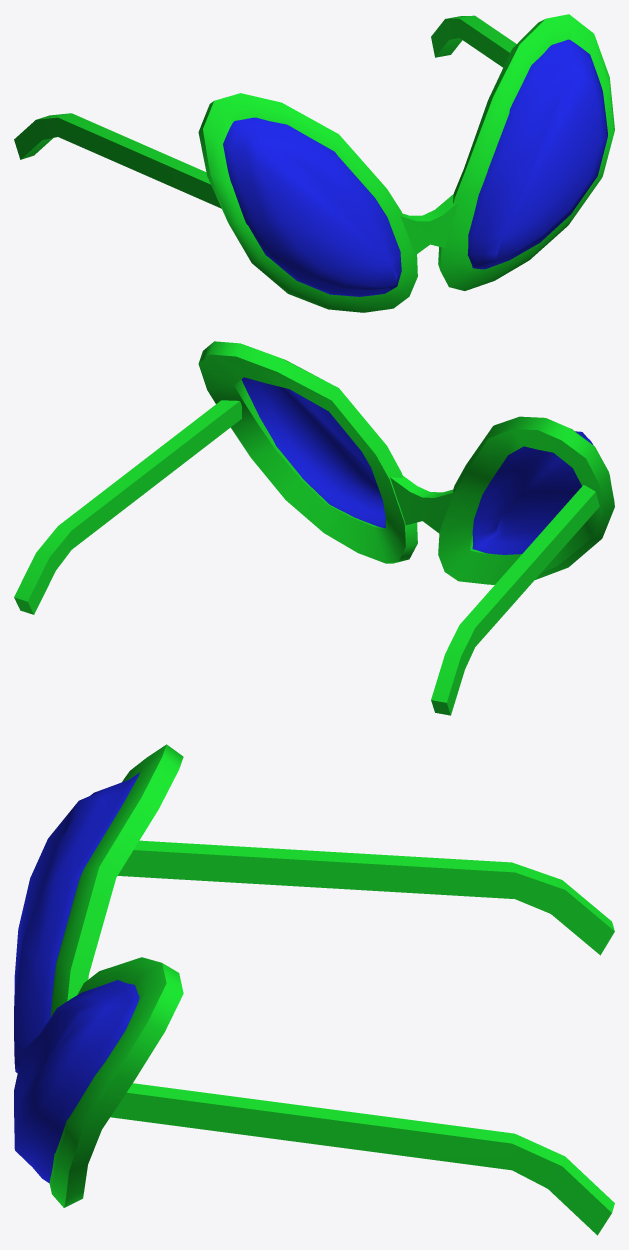
File: Alien_goggles.fbx
The picture shows the model from 3 angles, top to bottom: view 1: azimuth 30°, elevation 25°; view 2: azimuth 150°, elevation 25°; view 3: azimuth 270°, elevation 25°; orthographic projection. The views are drawn at different scales.
Parts seen in each view (by area): view 1: Alien_goggles.c, Glasses_stick_09.001, Glasses_stick_10; view 2: Alien_goggles.c, Glasses_stick_10, Glasses_stick_09.001; view 3: Alien_goggles.c, Glasses_stick_10, Glasses_stick_09.001.
Boxes of the visible parts, bbox=[...] form: Alien_goggles.c: bbox=[198, 14, 614, 312]; Glasses_stick_09.001: bbox=[14, 113, 221, 208]; Glasses_stick_10: bbox=[431, 15, 516, 67]; Alien_goggles.c: bbox=[198, 341, 614, 584]; Glasses_stick_10: bbox=[14, 400, 241, 614]; Glasses_stick_09.001: bbox=[431, 485, 599, 715]; Alien_goggles.c: bbox=[14, 744, 183, 1207]; Glasses_stick_10: bbox=[110, 1083, 614, 1235]; Glasses_stick_09.001: bbox=[118, 840, 614, 955].
Size of the model in its own units: 0.6481 by 0.3117 by 0.5645.
